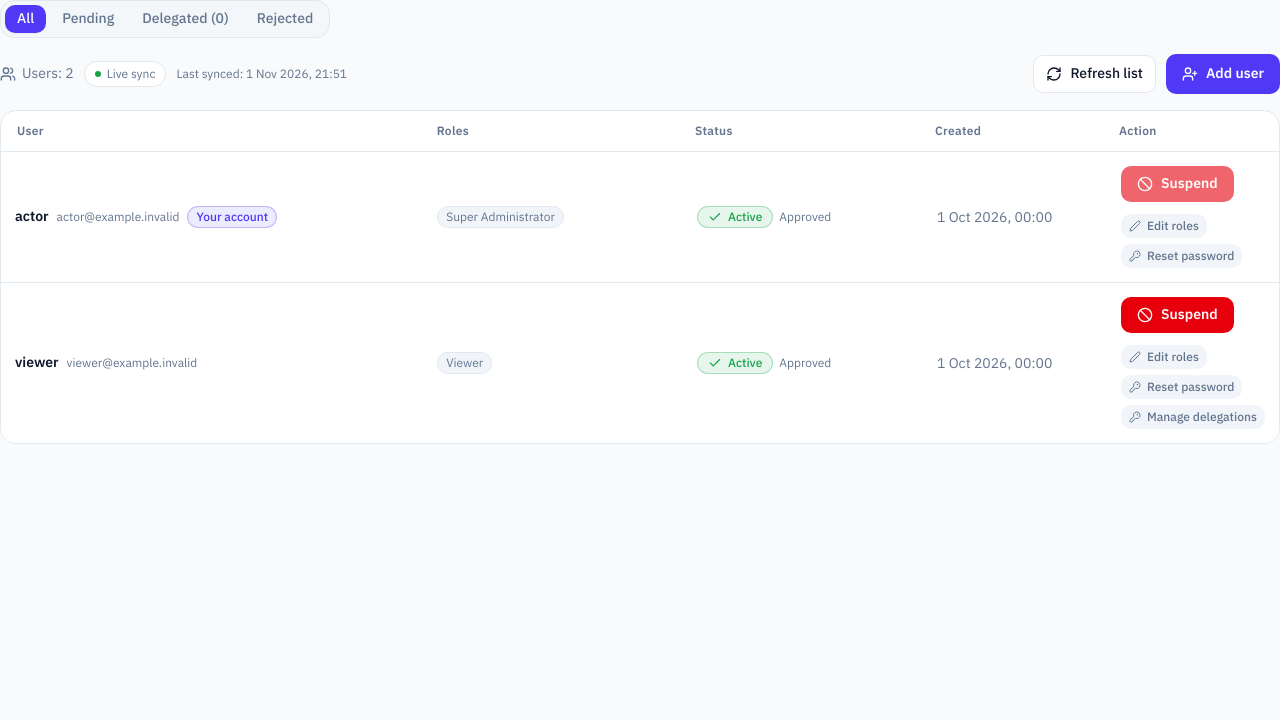
Test: UsersManagement — Edit Roles › requires at least one selected role and shows an error when none are chosen
This screenshot has width=1280, height=720.
Step 1. Click the button with aria-label "Edit user roles" → (1164,226), box [1121, 214, 1207, 238]
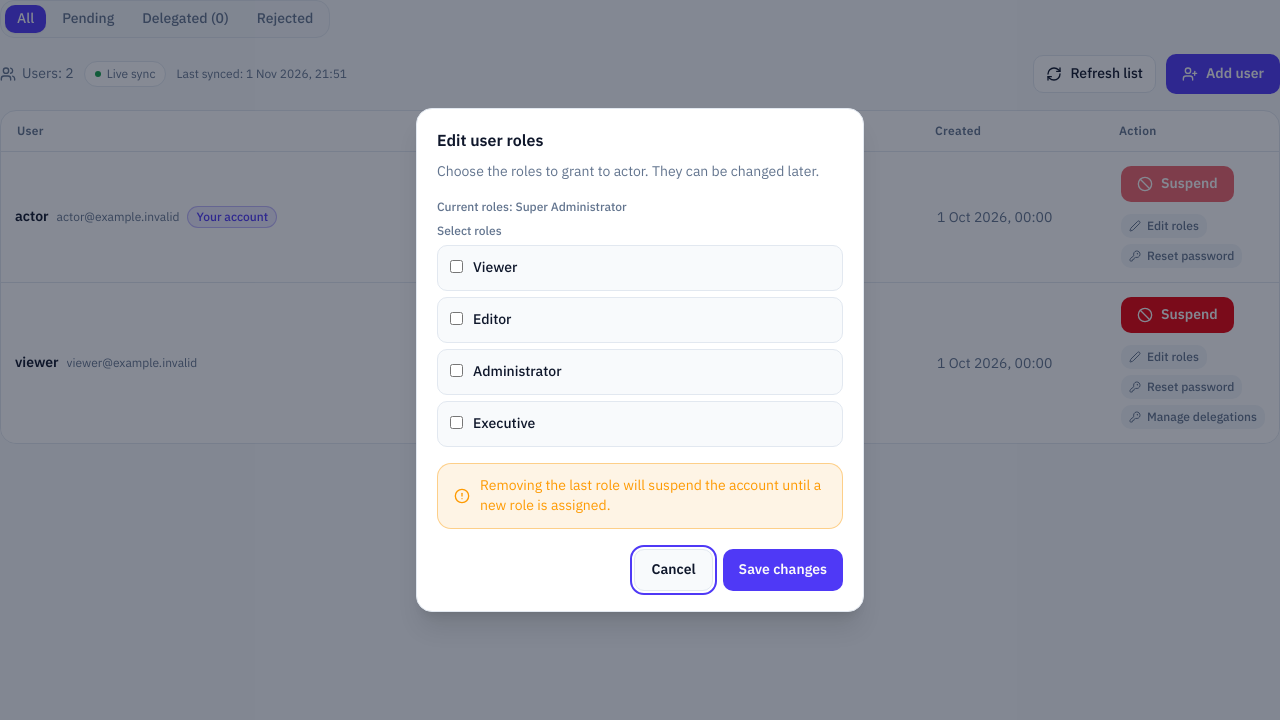
Expected: the dialog is shown, [416, 108, 864, 612]
Note: Leave all checkboxes unchecked.
Step 2. Click the button "Save changes" → (783,570), box [723, 549, 843, 591]
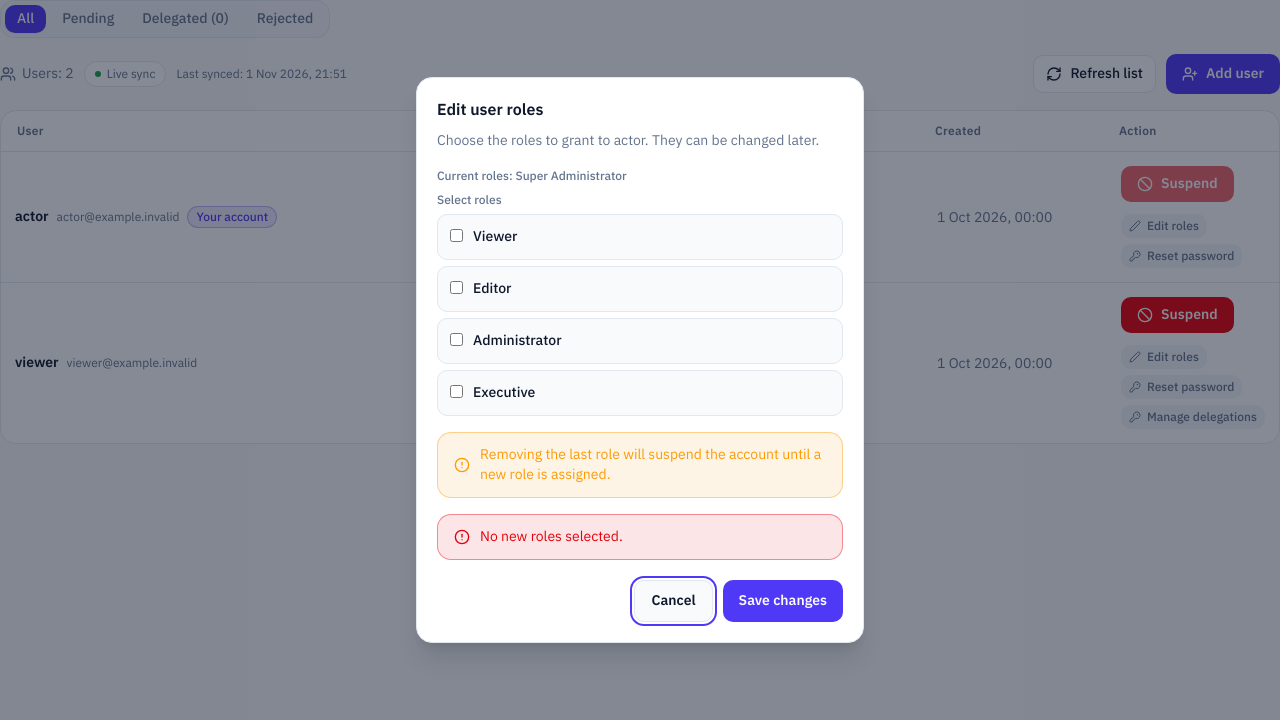
Expected: the text "No new roles selected." is shown, [480, 527, 623, 547]
